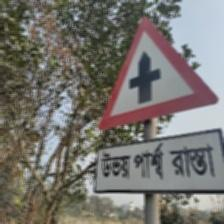Crossroad: (95, 17, 221, 223)
